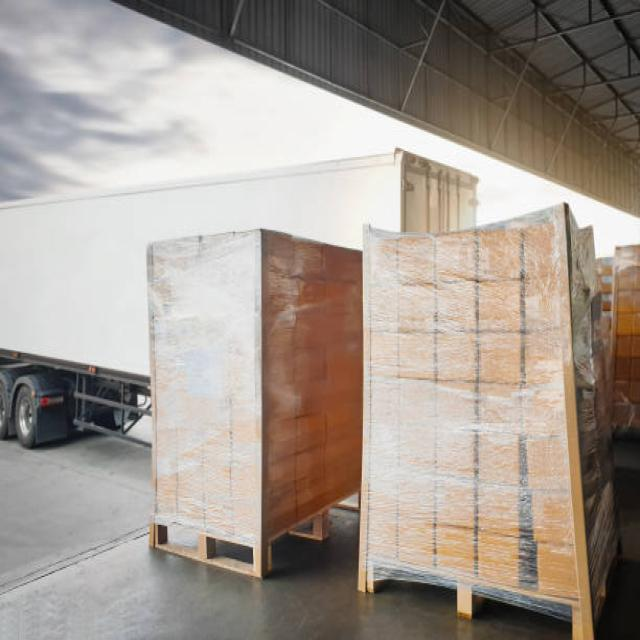Wooden-Pallets: (351, 526, 619, 640), (140, 492, 358, 591)
